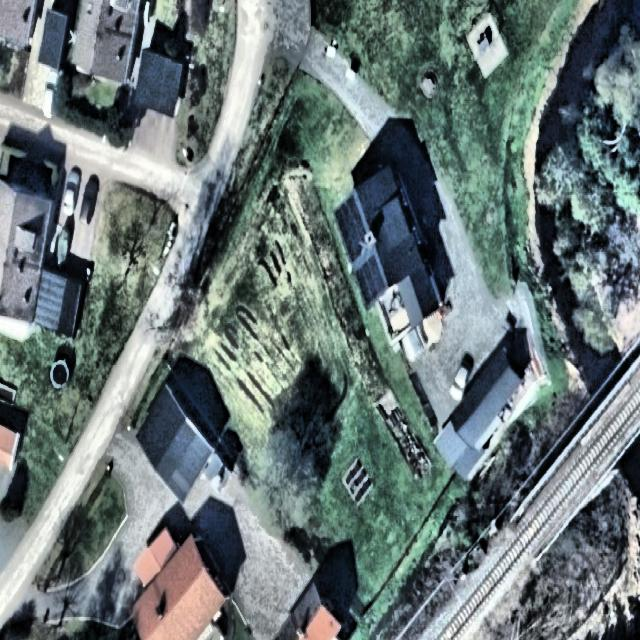roof_pv: (332, 194, 365, 262), (354, 252, 386, 309)
